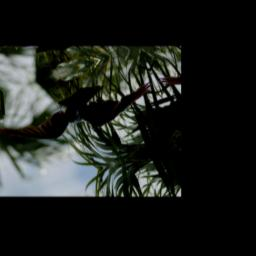Crow: (0, 58, 162, 161)
